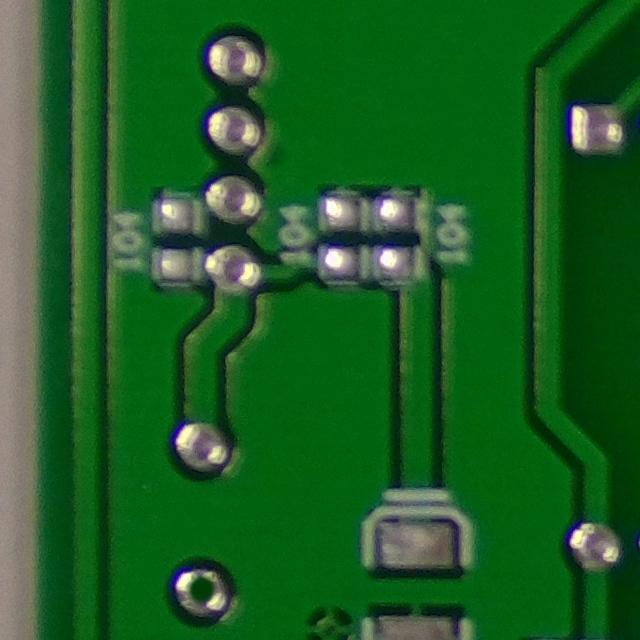missing_hole: (176, 567, 233, 626)
